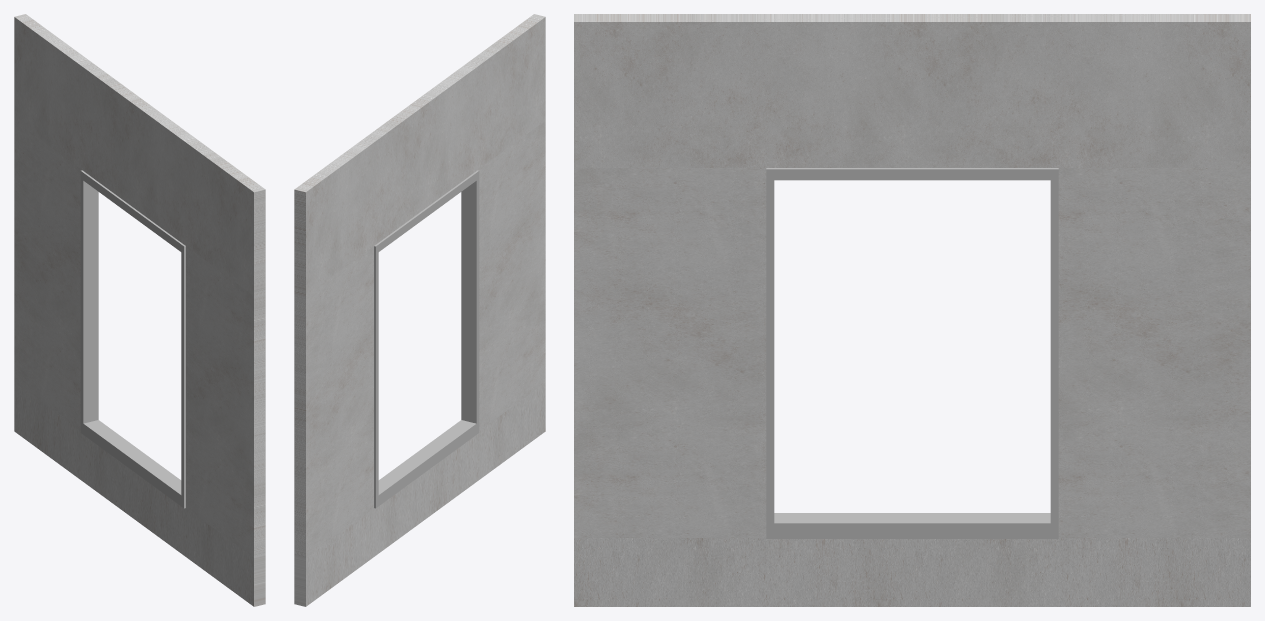
The model's file is SM_White_Red_Wall01M.fbx.
The picture shows the model from 3 angles, left to right: view 1: azimuth 30°, elevation 25°; view 2: azimuth 150°, elevation 25°; view 3: azimuth 270°, elevation 25°; orthographic projection. The views are drawn at different scales.
Parts seen in each view (by area): view 1: SM_White_Red_Wall01M; view 2: SM_White_Red_Wall01M; view 3: SM_White_Red_Wall01M.
Boxes of the visible parts, x1,y1,x2,y2 form: SM_White_Red_Wall01M: (14,14,265,606); SM_White_Red_Wall01M: (294,14,545,606); SM_White_Red_Wall01M: (574,14,1250,606).
Size of the model in its own units: 8.99 by 245 by 234.
